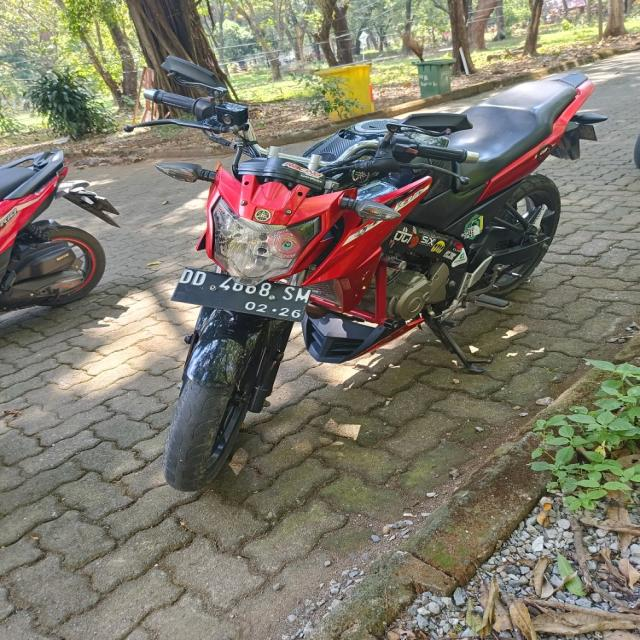plates: (181, 261, 314, 326)
